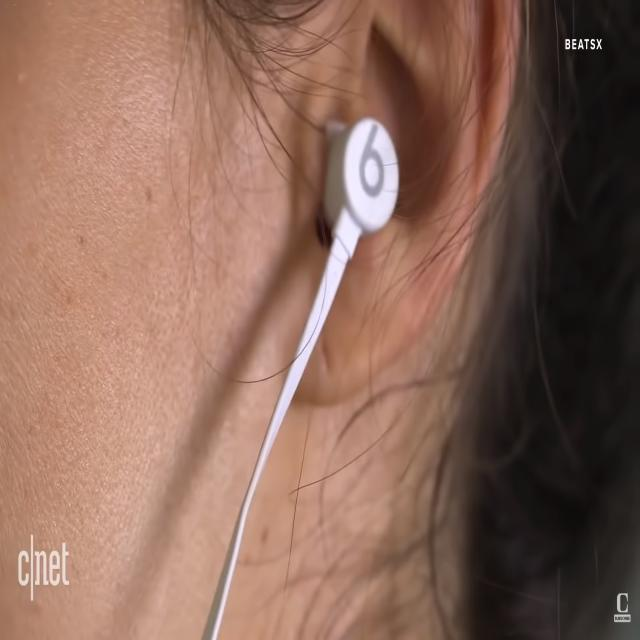Earphone: (203, 111, 400, 640)
